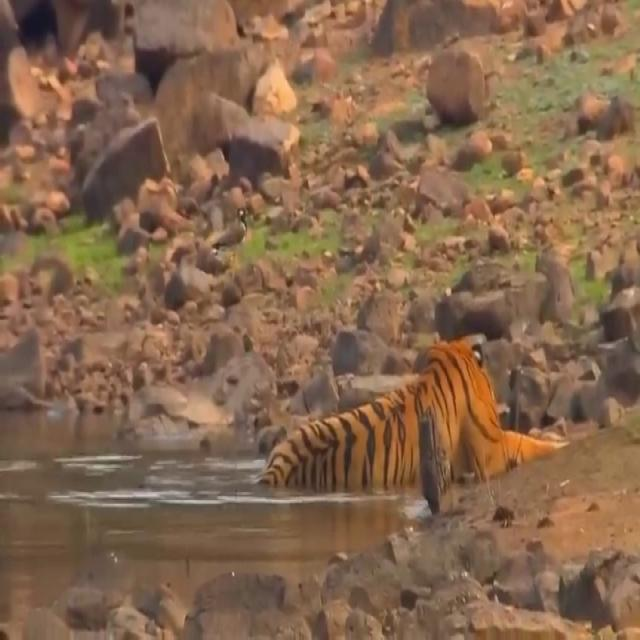tiger: (258, 337, 570, 487)
